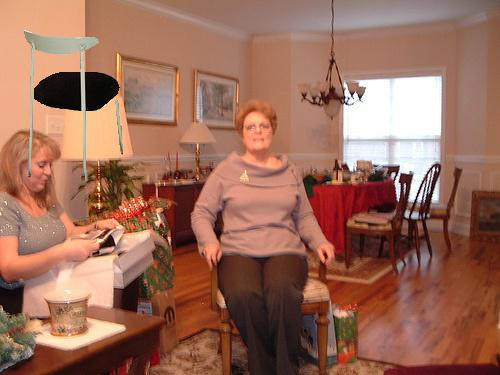tampered: (25, 31, 123, 181)
